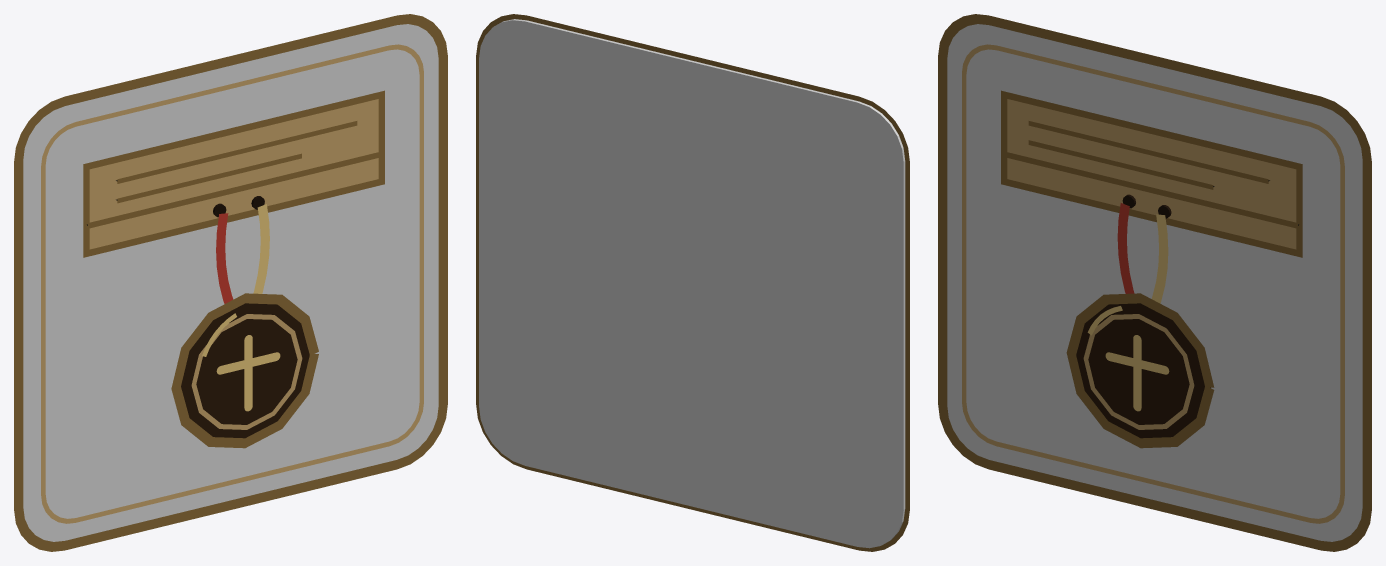
The model's file is obj-bulla.glb.
3 views of the same model, side by side, from view 1: azimuth 30°, elevation 25°; view 2: azimuth 150°, elevation 25°; view 3: azimuth 330°, elevation 25° (orthographic).
Visible parts, largest first — view 1: obj-bulla; view 2: obj-bulla; view 3: obj-bulla.
Boxes of the visible parts, bbox=[...] form: obj-bulla: bbox=[14, 14, 447, 551]; obj-bulla: bbox=[476, 14, 909, 551]; obj-bulla: bbox=[938, 14, 1371, 551].
Size of the model in its own units: 0.3917 by 0.3917 by 0.0326.
